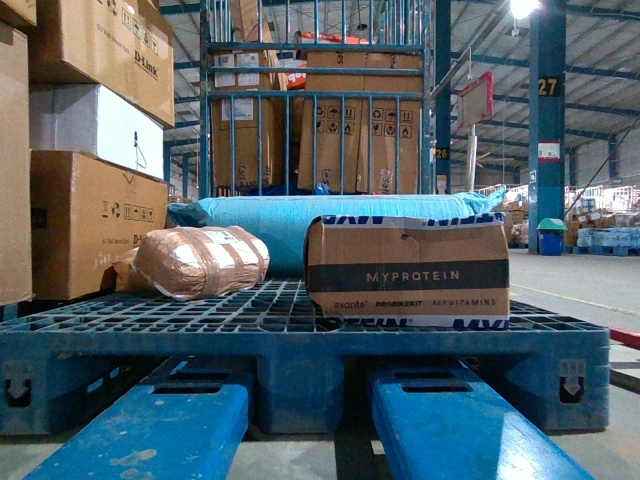block: (251, 331, 345, 435), (535, 327, 608, 432), (0, 329, 72, 432)
front: (0, 329, 609, 439)
hole pallet: (58, 353, 258, 443), (340, 353, 537, 438)
